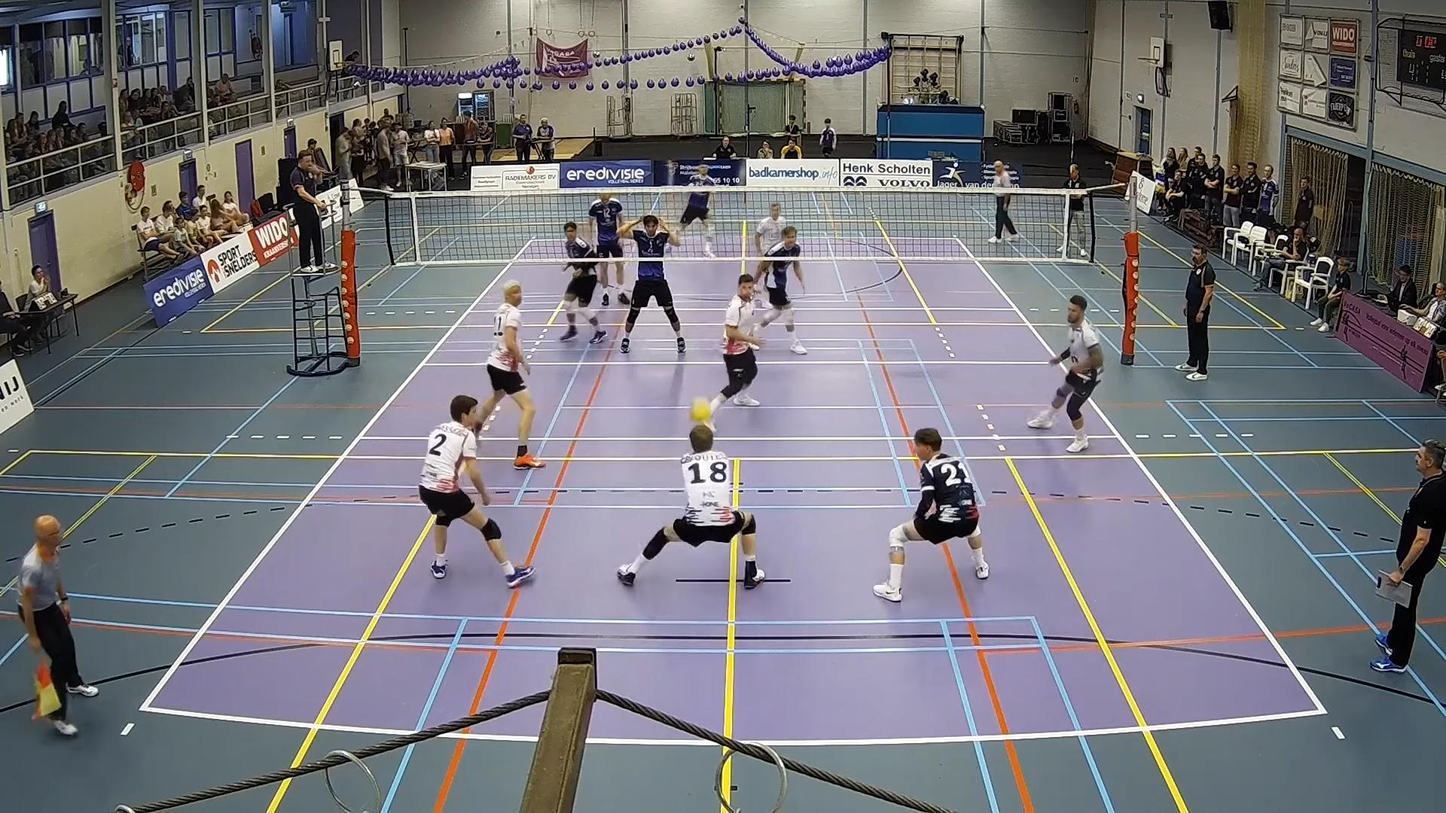Player: (419, 395, 532, 586), (873, 428, 988, 601), (1027, 295, 1103, 452), (482, 280, 545, 469), (619, 214, 685, 353), (708, 274, 764, 427), (754, 226, 806, 354), (560, 222, 606, 344), (588, 193, 628, 305), (679, 163, 715, 257), (754, 203, 788, 255), (755, 203, 788, 255)
Receive: (609, 420, 776, 591)
